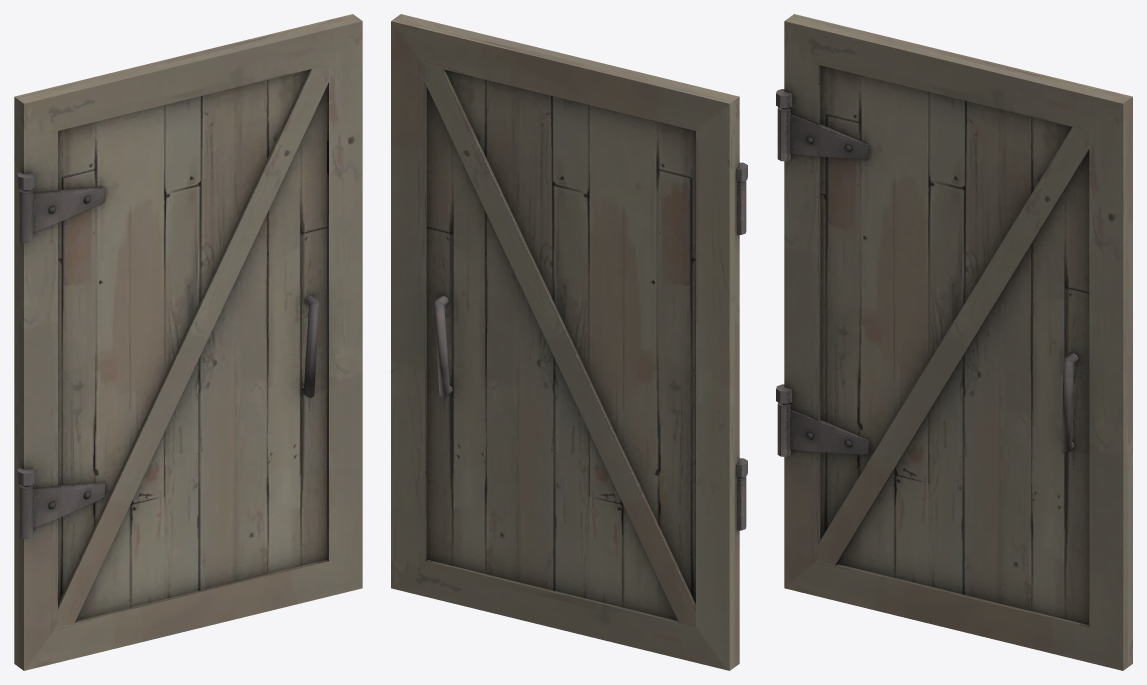
The picture shows the model from 3 angles, left to right: view 1: azimuth 30°, elevation 25°; view 2: azimuth 150°, elevation 25°; view 3: azimuth 330°, elevation 25°; orthographic projection.
Parts seen in each view (by area): view 1: body0_model0_lod0_mesh0, body0_model0_lod0_mesh1; view 2: body0_model0_lod0_mesh1, body0_model0_lod0_mesh0; view 3: body0_model0_lod0_mesh0, body0_model0_lod0_mesh1.
Part boxes in pixels (bbox=[...]): body0_model0_lod0_mesh0: bbox=[17, 17, 362, 670]; body0_model0_lod0_mesh1: bbox=[14, 14, 357, 666]; body0_model0_lod0_mesh1: bbox=[391, 17, 734, 670]; body0_model0_lod0_mesh0: bbox=[396, 14, 747, 666]; body0_model0_lod0_mesh0: bbox=[776, 17, 1127, 670]; body0_model0_lod0_mesh1: bbox=[789, 14, 1132, 666].
Size of the model in its own units: 81.56 by 128 by 8.41.
2 materials, 2 textured.
